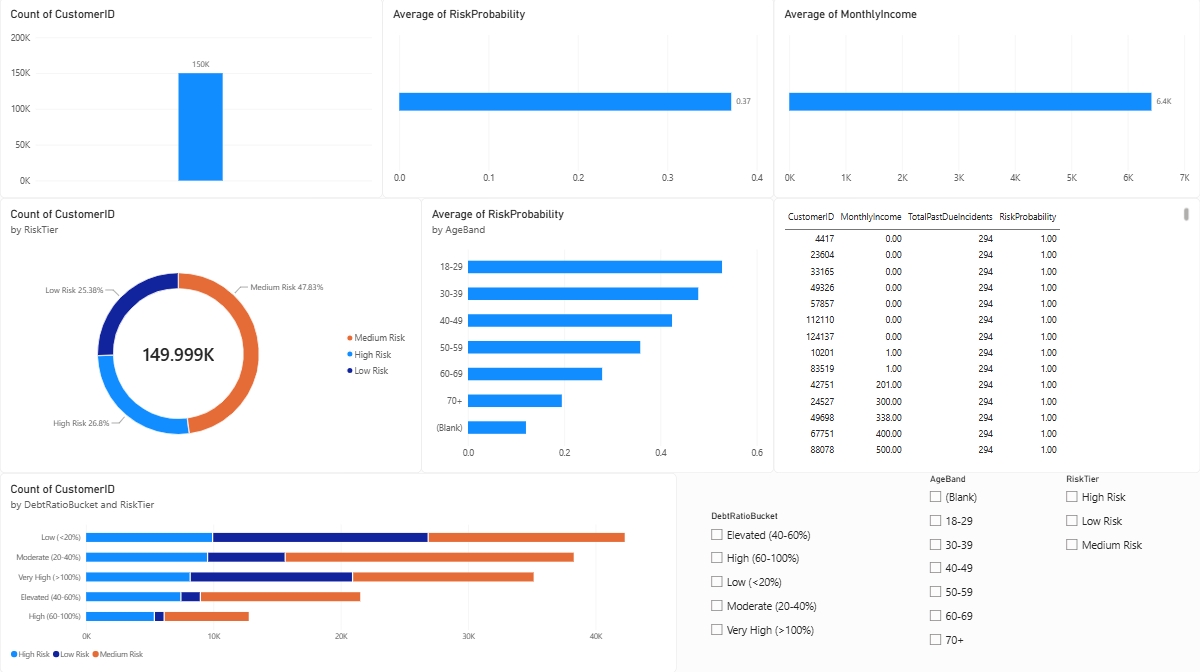

The dashboard page shown, as its layout file describes it:
{"tool":"powerbi","page":{"name":"Page 1","canvas":[1920,1080],"ordinal":0},"visuals":[{"type":"donutChart","fields":{"Category":["CustomerRisk.RiskTier"],"Y":["CountNonNull(CustomerRisk.CustomerID)"]},"box":[0,320,674,440],"z":0},{"type":"clusteredColumnChart","fields":{"Y":["CountNonNull(CustomerRisk.CustomerID)"]},"box":[0,0,612,320],"z":1},{"type":"barChart","fields":{"Y":["Avg(CustomerRisk.RiskProbability)"]},"box":[612,0,626,320],"z":2},{"type":"barChart","fields":{"Y":["Avg(CustomerRisk.MonthlyIncome)"]},"box":[1238,0,682,320],"z":3},{"type":"clusteredBarChart","fields":{"Category":["CustomerRisk.AgeBand"],"Y":["Avg(CustomerRisk.RiskProbability)"]},"box":[674,320,564,440],"z":4},{"type":"barChart","fields":{"Category":["CustomerRisk.DebtRatioBucket"],"Series":["CustomerRisk.RiskTier"],"Y":["CountNonNull(CustomerRisk.CustomerID)"]},"box":[0,760,1082,320],"z":5},{"type":"tableEx","fields":{"Values":["CustomerRisk.CustomerID","CustomerRisk.MonthlyIncome","CustomerRisk.TotalPastDueIncidents","CustomerRisk.RiskProbability"]},"box":[1238,320,682,440],"z":6},{"type":"slicer","fields":{"Values":["CustomerRisk.AgeBand"]},"box":[1480,760,218,320],"z":7},{"type":"slicer","fields":{"Values":["CustomerRisk.RiskTier"]},"box":[1698,760,222,180],"z":8},{"type":"slicer","fields":{"Values":["CustomerRisk.DebtRatioBucket"]},"box":[1130,820,350,260],"z":9}]}

Visuals, with their boxes in screenshot pixels (x1, y1, x2, y2), scaled from the page's 1920x1080 canvas onto the 1200x672 screenshot:
donutChart - CustomerRisk.RiskTier x CountNonNull(CustomerRisk.CustomerID): region(0, 199, 421, 473)
clusteredColumnChart - CountNonNull(CustomerRisk.CustomerID): region(0, 0, 382, 199)
barChart - Avg(CustomerRisk.RiskProbability): region(382, 0, 774, 199)
barChart - Avg(CustomerRisk.MonthlyIncome): region(774, 0, 1199, 199)
clusteredBarChart - CustomerRisk.AgeBand x Avg(CustomerRisk.RiskProbability): region(421, 199, 774, 473)
barChart - CustomerRisk.DebtRatioBucket x CustomerRisk.RiskTier: region(0, 473, 676, 671)
tableEx - CustomerRisk.CustomerID x CustomerRisk.MonthlyIncome: region(774, 199, 1199, 473)
slicer - CustomerRisk.AgeBand: region(925, 473, 1061, 671)
slicer - CustomerRisk.RiskTier: region(1061, 473, 1199, 585)
slicer - CustomerRisk.DebtRatioBucket: region(706, 510, 925, 671)
